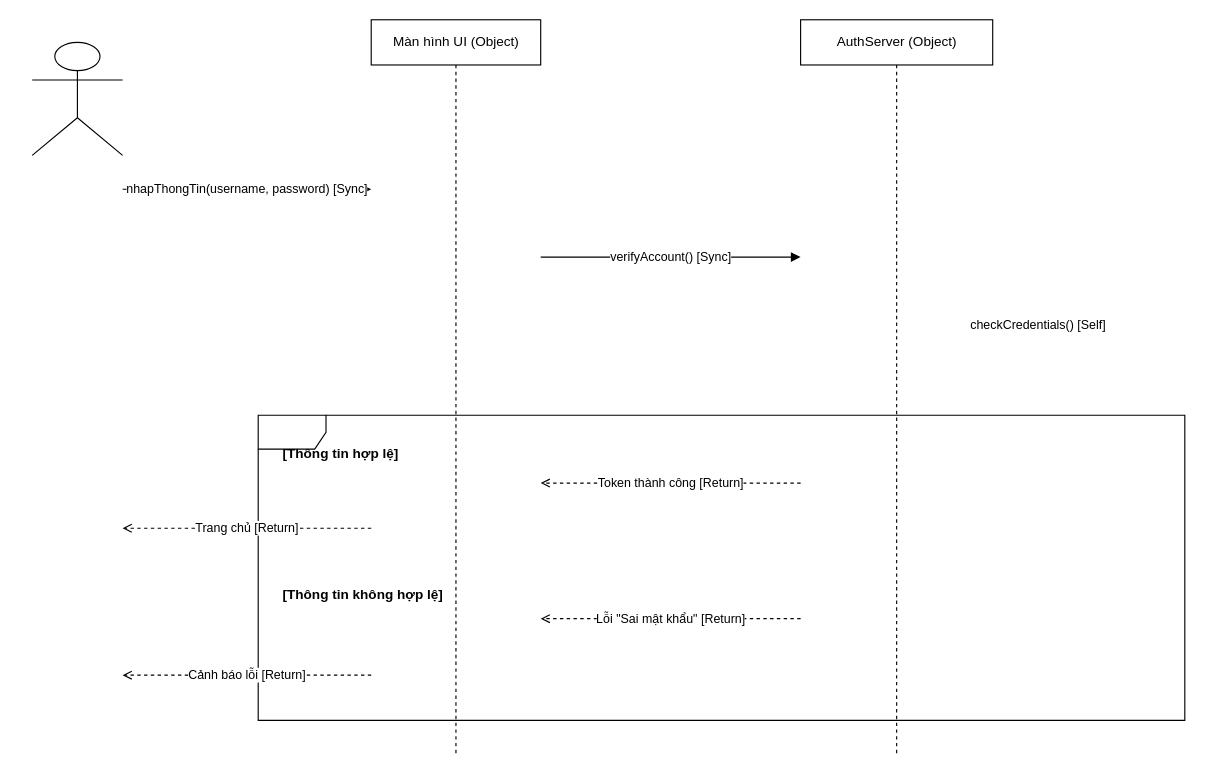
This 1205x774 diagram has some shape labels left out. The centre of each missing label's shape, as x and y in pixels:
alt: (721,567)
Khách hàng (Actor): (77,98)
